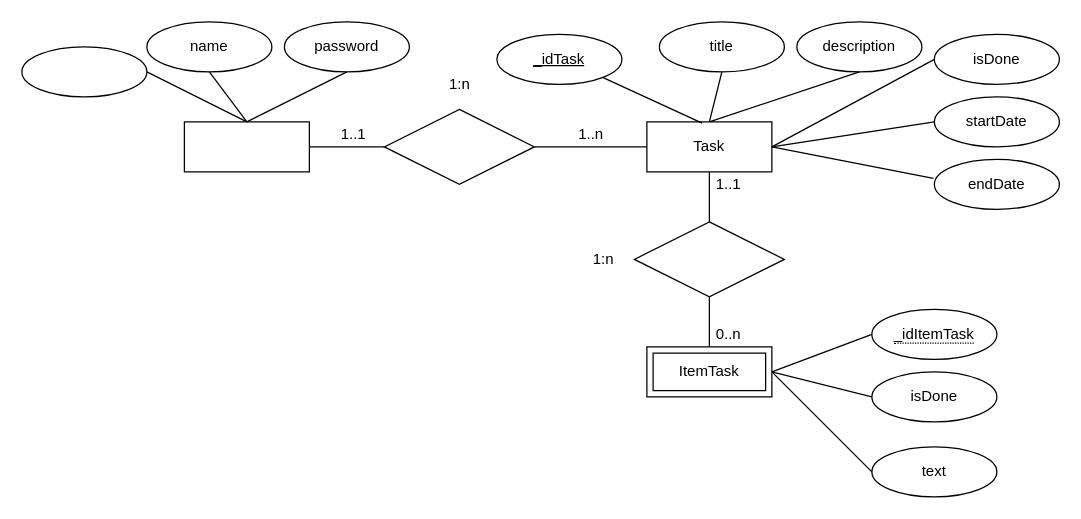
This 1081x519 diagram has some shape labels left out. Here are the shapes that lost their labels. From the top down, the centre of each, then its label:
At point (84, 71): "_idUser".
At point (246, 146): "User".
At point (458, 146): "Realiza".
At point (708, 259): "Contiene".
